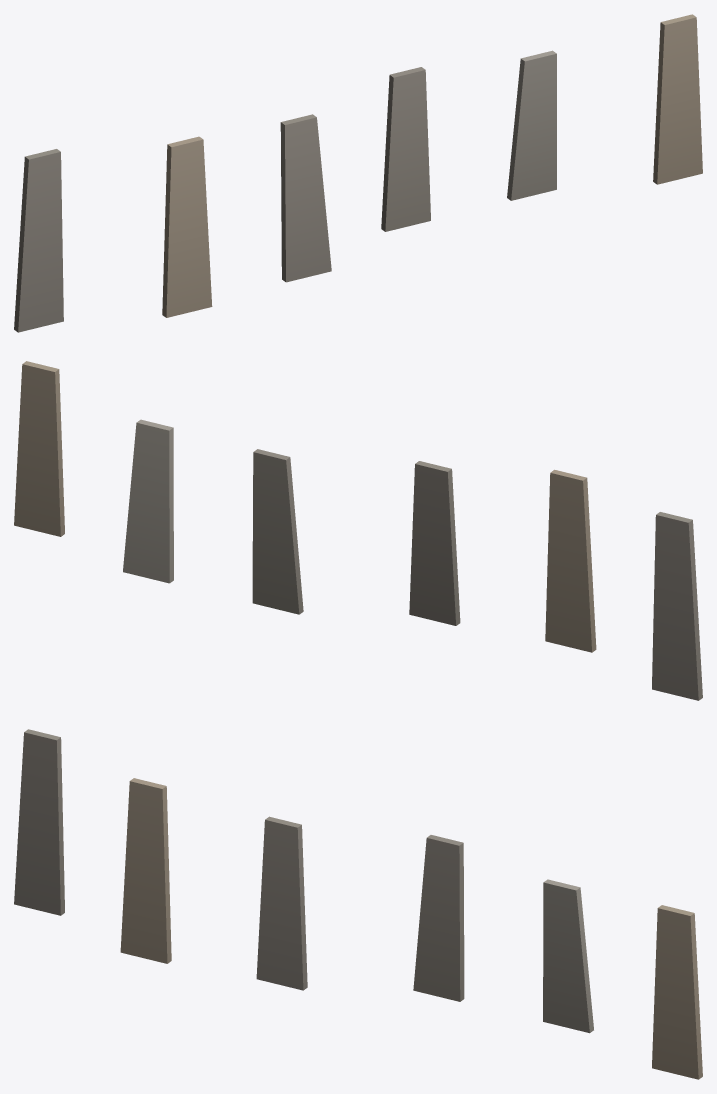
The model's file is dunefence.lod2.glb.
3 views of the same model, one above another, from view 1: azimuth 30°, elevation 25°; view 2: azimuth 150°, elevation 25°; view 3: azimuth 330°, elevation 25° (orthographic). The views are drawn at different scales.
Bounding box in the file's own units: 4.14 × 0.9992 × 0.4229.
